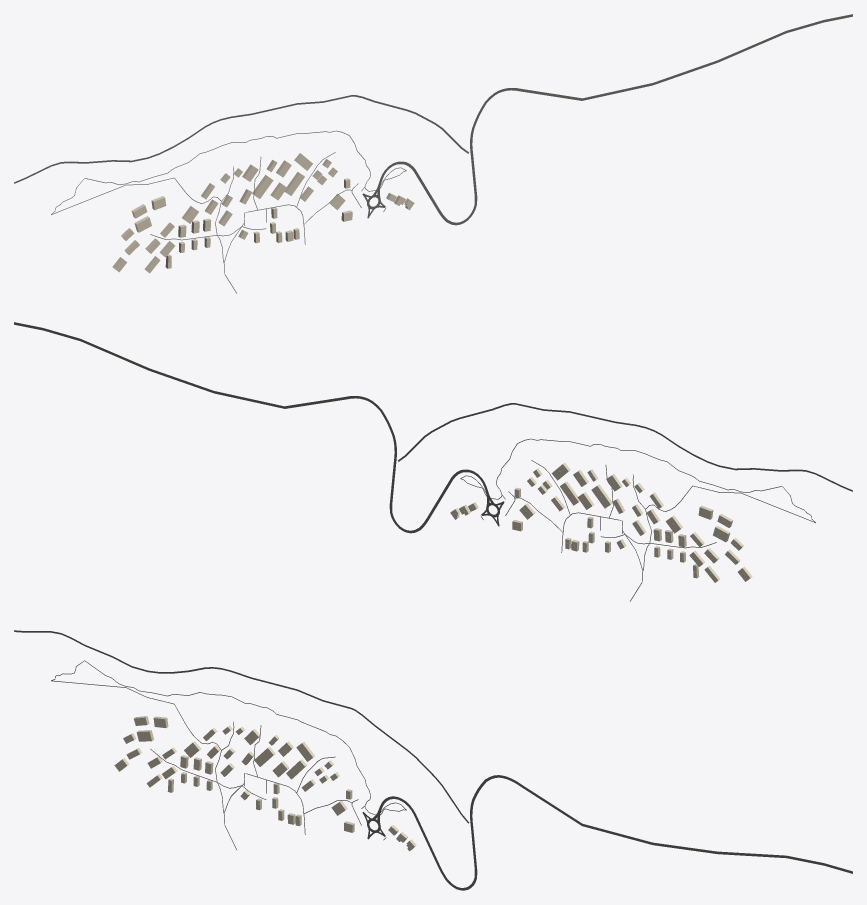
The model's file is historic-palestine-12_33_3539_3272.glb.
The picture shows the model from 3 angles, top to bottom: view 1: azimuth 30°, elevation 25°; view 2: azimuth 150°, elevation 25°; view 3: azimuth 330°, elevation 25°; orthographic projection.
Visible parts, largest first — view 1: Road, Road Scenic road 'Beit-Keshet Forrest'; view 2: Road, Road Scenic road 'Beit-Keshet Forrest'; view 3: Road, Road Scenic road 'Beit-Keshet Forrest', Road .019.
Part boxes in pixels (bbox=[...]): Road: bbox=[378, 14, 852, 225]; Road Scenic road 'Beit-Keshet Forrest': bbox=[14, 95, 468, 183]; Road: bbox=[14, 322, 488, 533]; Road Scenic road 'Beit-Keshet Forrest': bbox=[398, 403, 852, 491]; Road: bbox=[378, 775, 852, 890]; Road Scenic road 'Beit-Keshet Forrest': bbox=[14, 630, 469, 823]; Road .019: bbox=[51, 660, 375, 814].
Size of the model in its own units: 1706 by 347 by 8.7.
